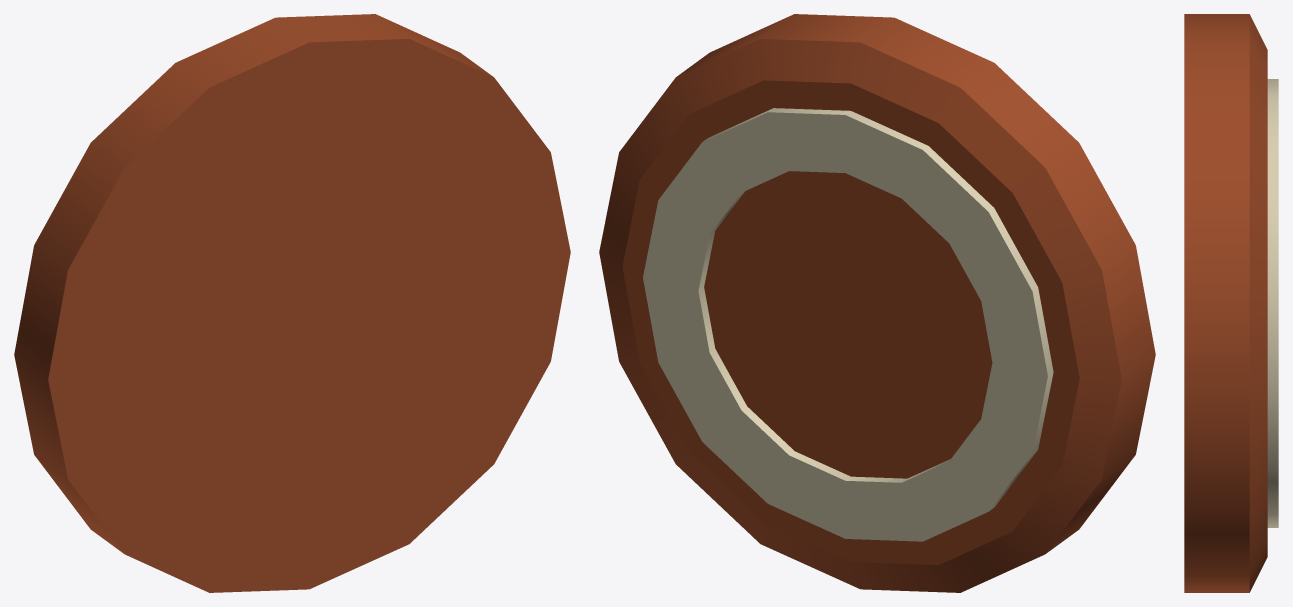
Rendered from pod100_access_hatch.obj.
3 renders of one model, left to right at view 1: azimuth 30°, elevation 25°; view 2: azimuth 150°, elevation 25°; view 3: azimuth 270°, elevation 25°, orthographic. The views are drawn at different scales.
Visible parts, largest first — view 1: pod100_access_hatch; view 2: pod100_access_hatch; view 3: pod100_access_hatch.
Boxes of the visible parts, x1,y1,x2,y2 form: pod100_access_hatch: (14,14,570,592); pod100_access_hatch: (599,14,1155,592); pod100_access_hatch: (1184,14,1278,592).
Bounding box in the file's own units: 1.6 × 1.6 × 0.26.
